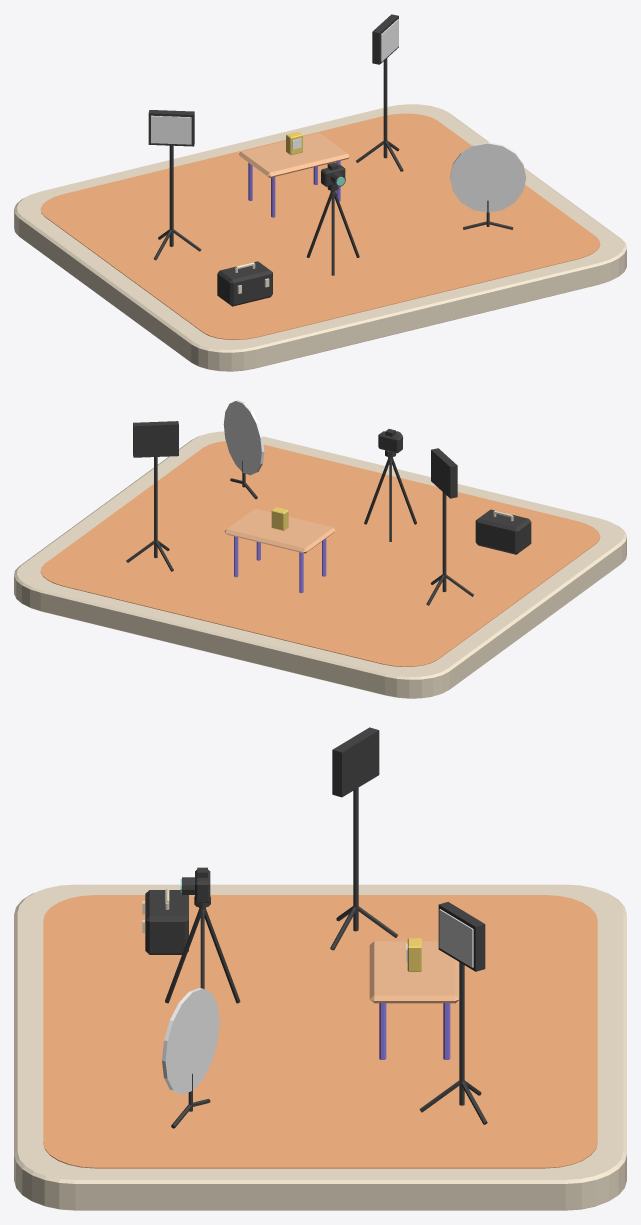
The model's file is room.fbx.
3 views of the same model, one above another, from view 1: azimuth 30°, elevation 25°; view 2: azimuth 150°, elevation 25°; view 3: azimuth 270°, elevation 25° (orthographic). The views are drawn at different scales.
Visible parts, largest first — view 1: COM-02 Floor Surface, COM-01 Rounded Base Direct, Reflector, Rounded table top, Case, Diffuser, Light panel, Light panel.001, Diffuser.001; view 2: COM-02 Floor Surface, COM-01 Rounded Base Direct, Rounded table top, Reflector, Case, Light panel.001, Light panel, Pole, Body; view 3: COM-02 Floor Surface, COM-01 Rounded Base Direct, Rounded table top, Reflector, Case, Light panel, Diffuser.001, Light panel.001, Pole.001, Pole.
Boxes of the visible parts, x1,y1,x2,y2 form: COM-02 Floor Surface: [40, 113, 600, 339]; COM-01 Rounded Base Direct: [14, 104, 626, 371]; Reflector: [450, 142, 526, 212]; Rounded table top: [239, 132, 349, 177]; Case: [217, 261, 272, 306]; Diffuser: [151, 115, 191, 144]; Light panel: [148, 110, 194, 146]; Light panel.001: [372, 14, 398, 64]; Diffuser.001: [381, 19, 398, 61]; COM-02 Floor Surface: [40, 441, 600, 666]; COM-01 Rounded Base Direct: [14, 431, 626, 698]; Rounded table top: [224, 508, 335, 553]; Reflector: [223, 400, 264, 475]; Case: [475, 509, 531, 554]; Light panel.001: [133, 421, 178, 457]; Light panel: [431, 448, 457, 498]; Pole: [442, 492, 446, 592]; Body: [378, 431, 402, 453]; COM-02 Floor Surface: [43, 895, 597, 1168]; COM-01 Rounded Base Direct: [14, 884, 626, 1210]; Rounded table top: [369, 941, 459, 1003]; Reflector: [162, 988, 219, 1094]; Case: [145, 890, 188, 954]; Light panel: [332, 727, 379, 797]; Diffuser.001: [439, 909, 473, 967]; Light panel.001: [438, 902, 485, 971]; Pole.001: [459, 962, 464, 1105]; Pole: [353, 788, 358, 931].
Bounding box in the file's own units: 600 × 214 × 520.
